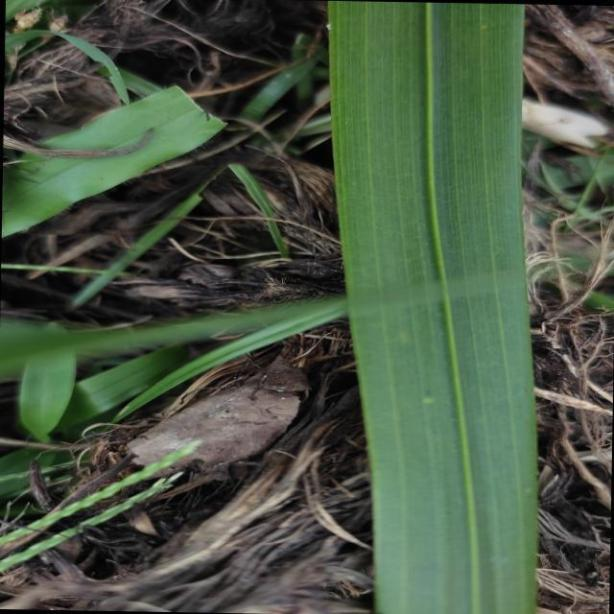Healthy: (327, 3, 538, 614)
